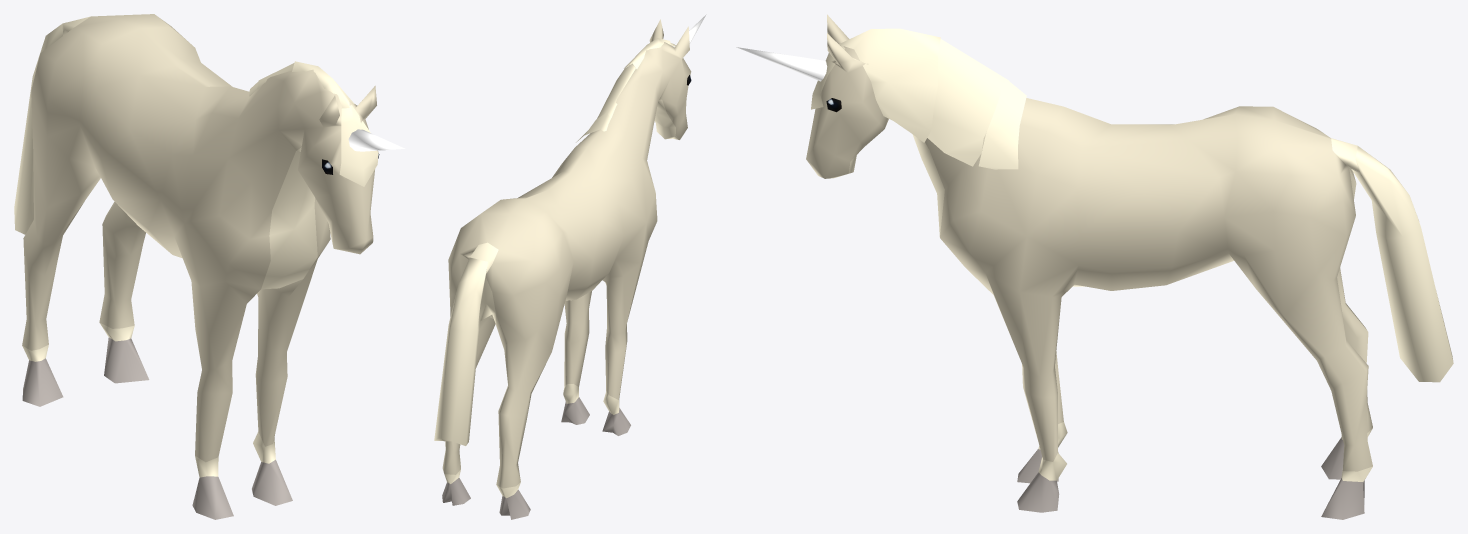
File: Unicorn.glb
3 views of the same model, side by side, from view 1: azimuth 30°, elevation 25°; view 2: azimuth 150°, elevation 25°; view 3: azimuth 270°, elevation 25° (orthographic). The views are drawn at different scales.
Visible parts, largest first — view 1: Unicorn; view 2: Unicorn; view 3: Unicorn.
Part boxes in pixels (x1,y1,x2,y2): Unicorn: (14, 14, 405, 519); Unicorn: (434, 14, 706, 519); Unicorn: (736, 14, 1453, 519).
Size of what is drawn, in the model's own units: 0.6862 by 2.26 by 3.14.
Materials: 1 (1 with a texture image).
